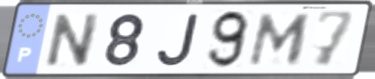7: (314, 9, 355, 70)
8: (101, 11, 147, 70)
9: (204, 9, 253, 71)
J: (154, 12, 202, 69)
M: (245, 12, 314, 68)
N: (42, 12, 104, 69)
